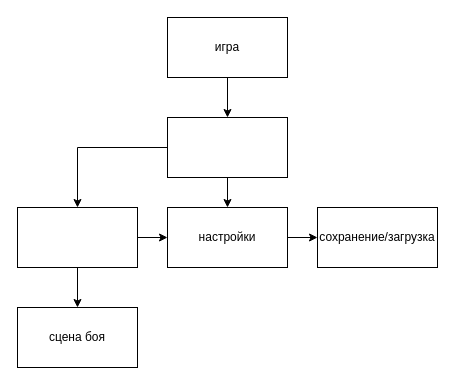
The diagram is 455 pixels wide and 385 high, and some of its shapes have lost their labels. Here are the shapes that lost their labels. From the top down, the box of each, then its label:
(166, 116, 288, 178): главное меню
(16, 206, 138, 268): сцена диалогов
